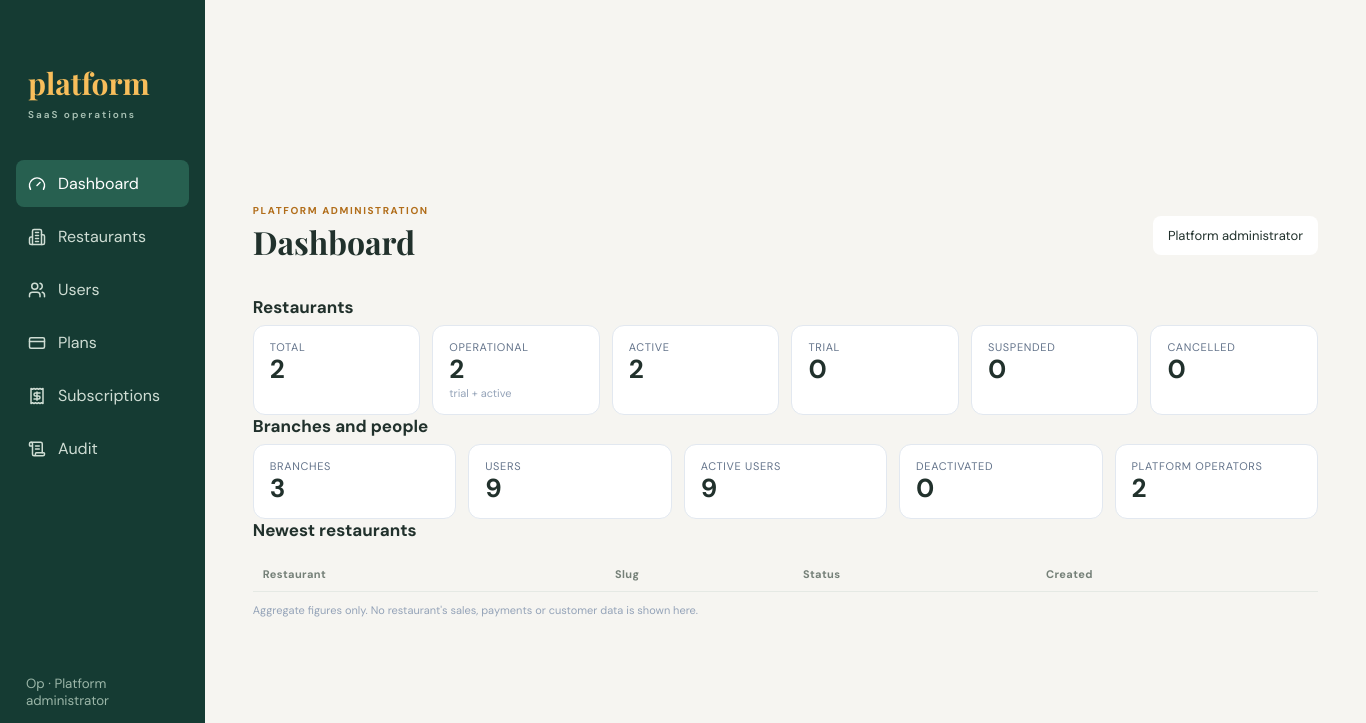
Test case: P2C UI · platform plan catalogue › renders null limits as "unlimited", never as a number
(page scrolled)
Click the button "Plans" at x=102, y=342, box [16,319,189,366]
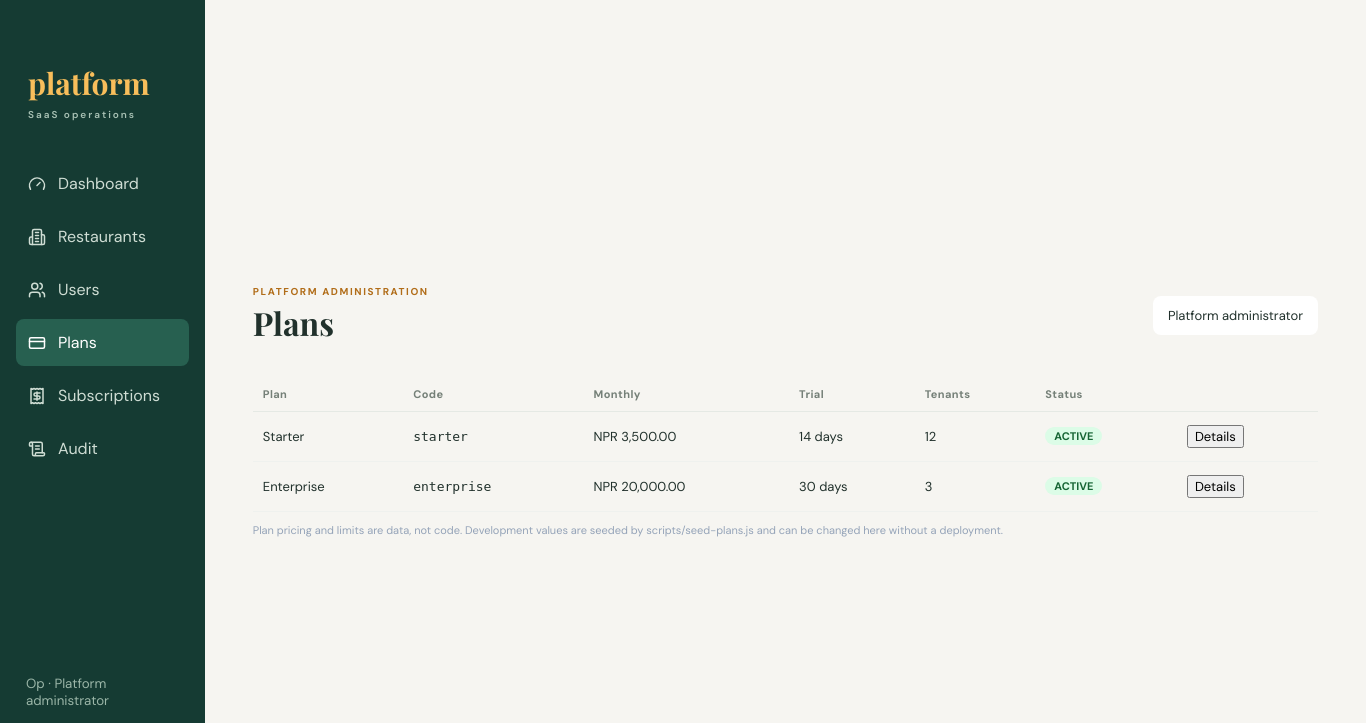
Click the 2nd button "Details" at x=1215, y=486, box [1187,474,1244,498]
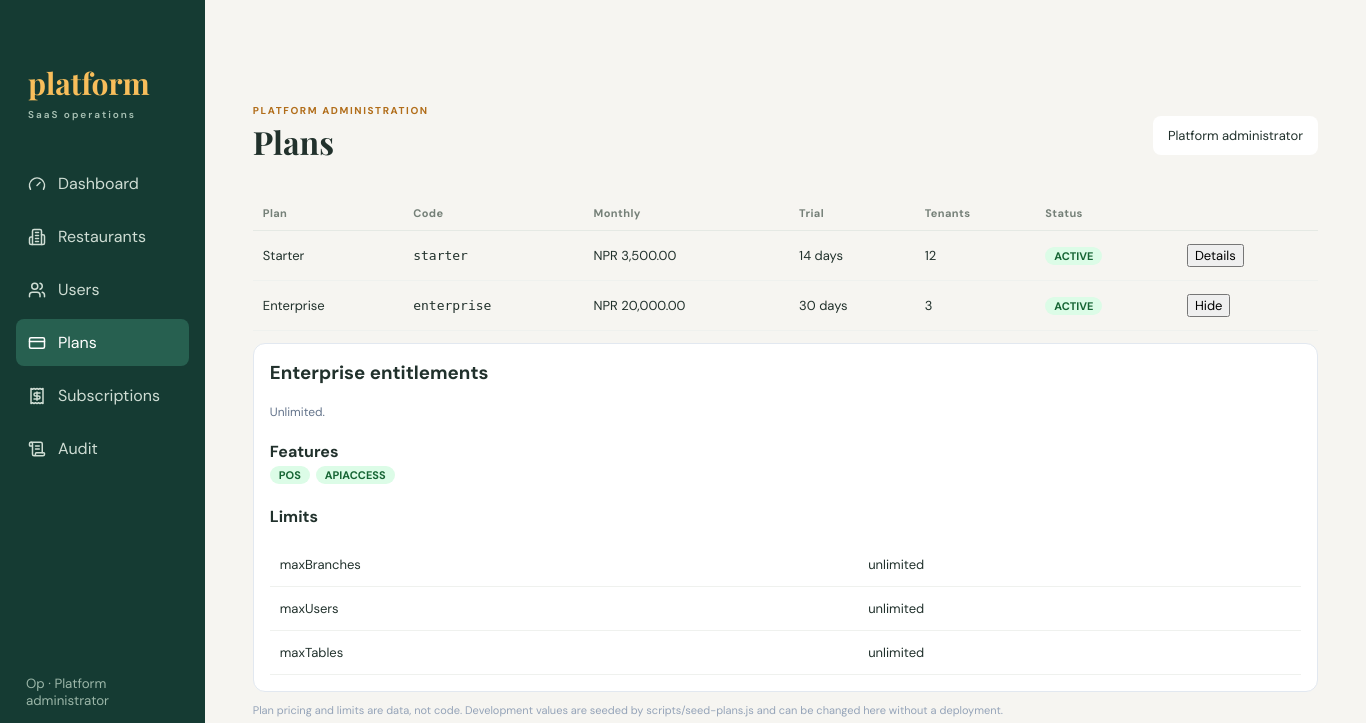
Result: the text "Unlimited" is shown at [270,404,325,420]
